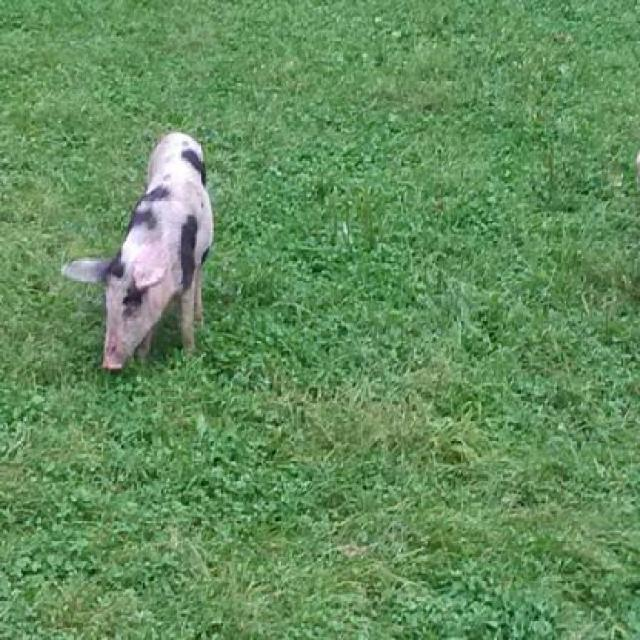pig: (61, 131, 214, 370)
